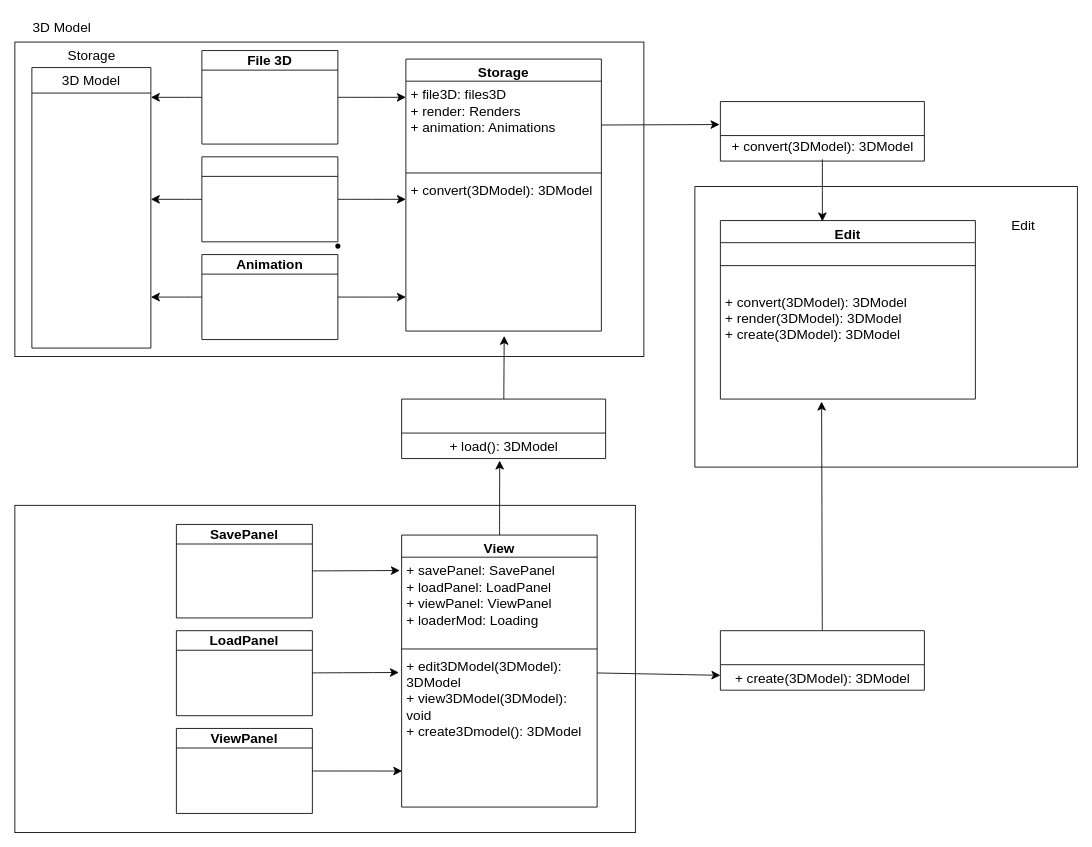
This 1092x847 diagram has some shape labels left out. The box of each missing label's shape, as (x1, y1, x2, y2) in pixels:
< <interface> > Convertation: (720, 101, 924, 161)
< <interface> > Creation: (720, 630, 924, 690)
< <interface> > Loading: (401, 398, 606, 459)
Renders: (201, 156, 338, 242)
